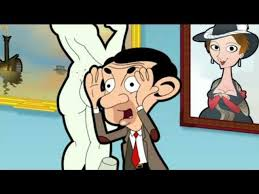mrbean: (82, 47, 182, 169)
